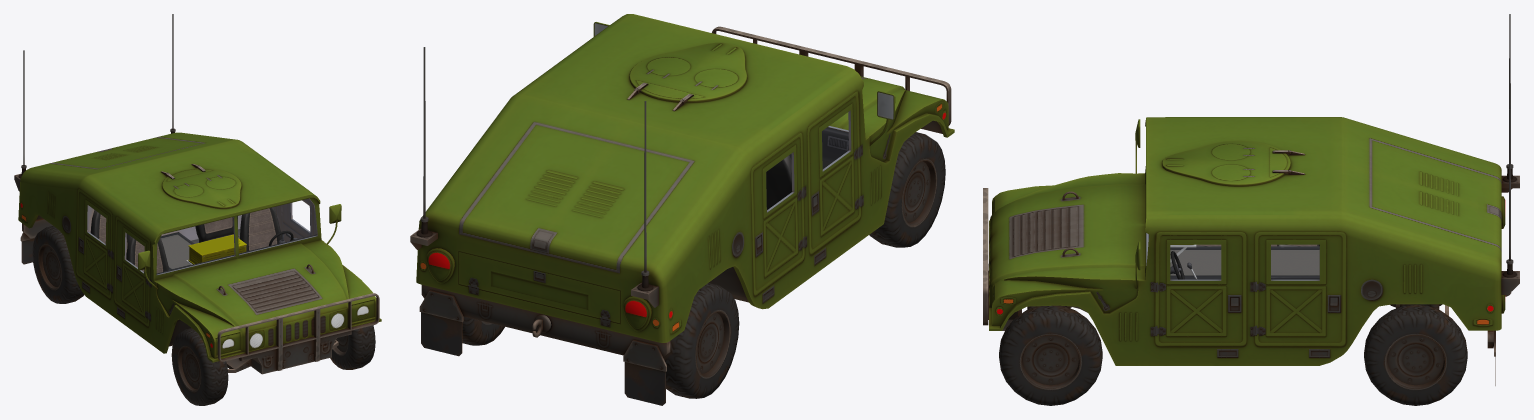
Rendered from MilitaryHamvee01_2.FBX.
The picture shows the model from 3 angles, left to right: view 1: azimuth 30°, elevation 25°; view 2: azimuth 150°, elevation 25°; view 3: azimuth 270°, elevation 25°; orthographic projection. The views are drawn at different scales.
Visible parts, largest first — view 1: MilitaryHamvee01_2; view 2: MilitaryHamvee01_2; view 3: MilitaryHamvee01_2.
Boxes of the visible parts, x1,y1,x2,y2 form: MilitaryHamvee01_2: (14,14,381,405); MilitaryHamvee01_2: (410,14,954,405); MilitaryHamvee01_2: (983,14,1519,405).
Size of what is drawn, in the model's own units: 3.22 by 3.4 by 5.64.
